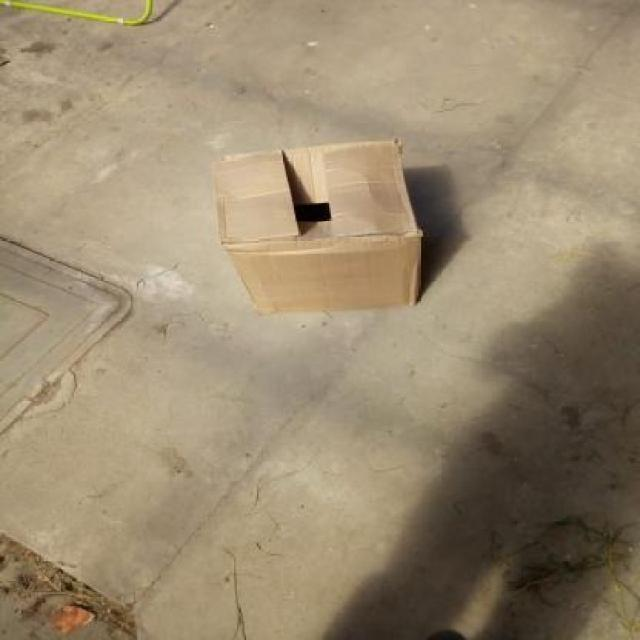box: (217, 126, 426, 322)
